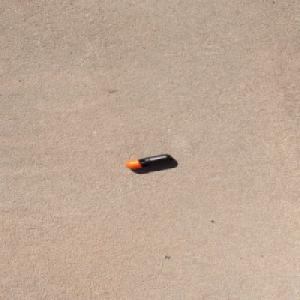PlasticPart: (124, 153, 174, 169)
